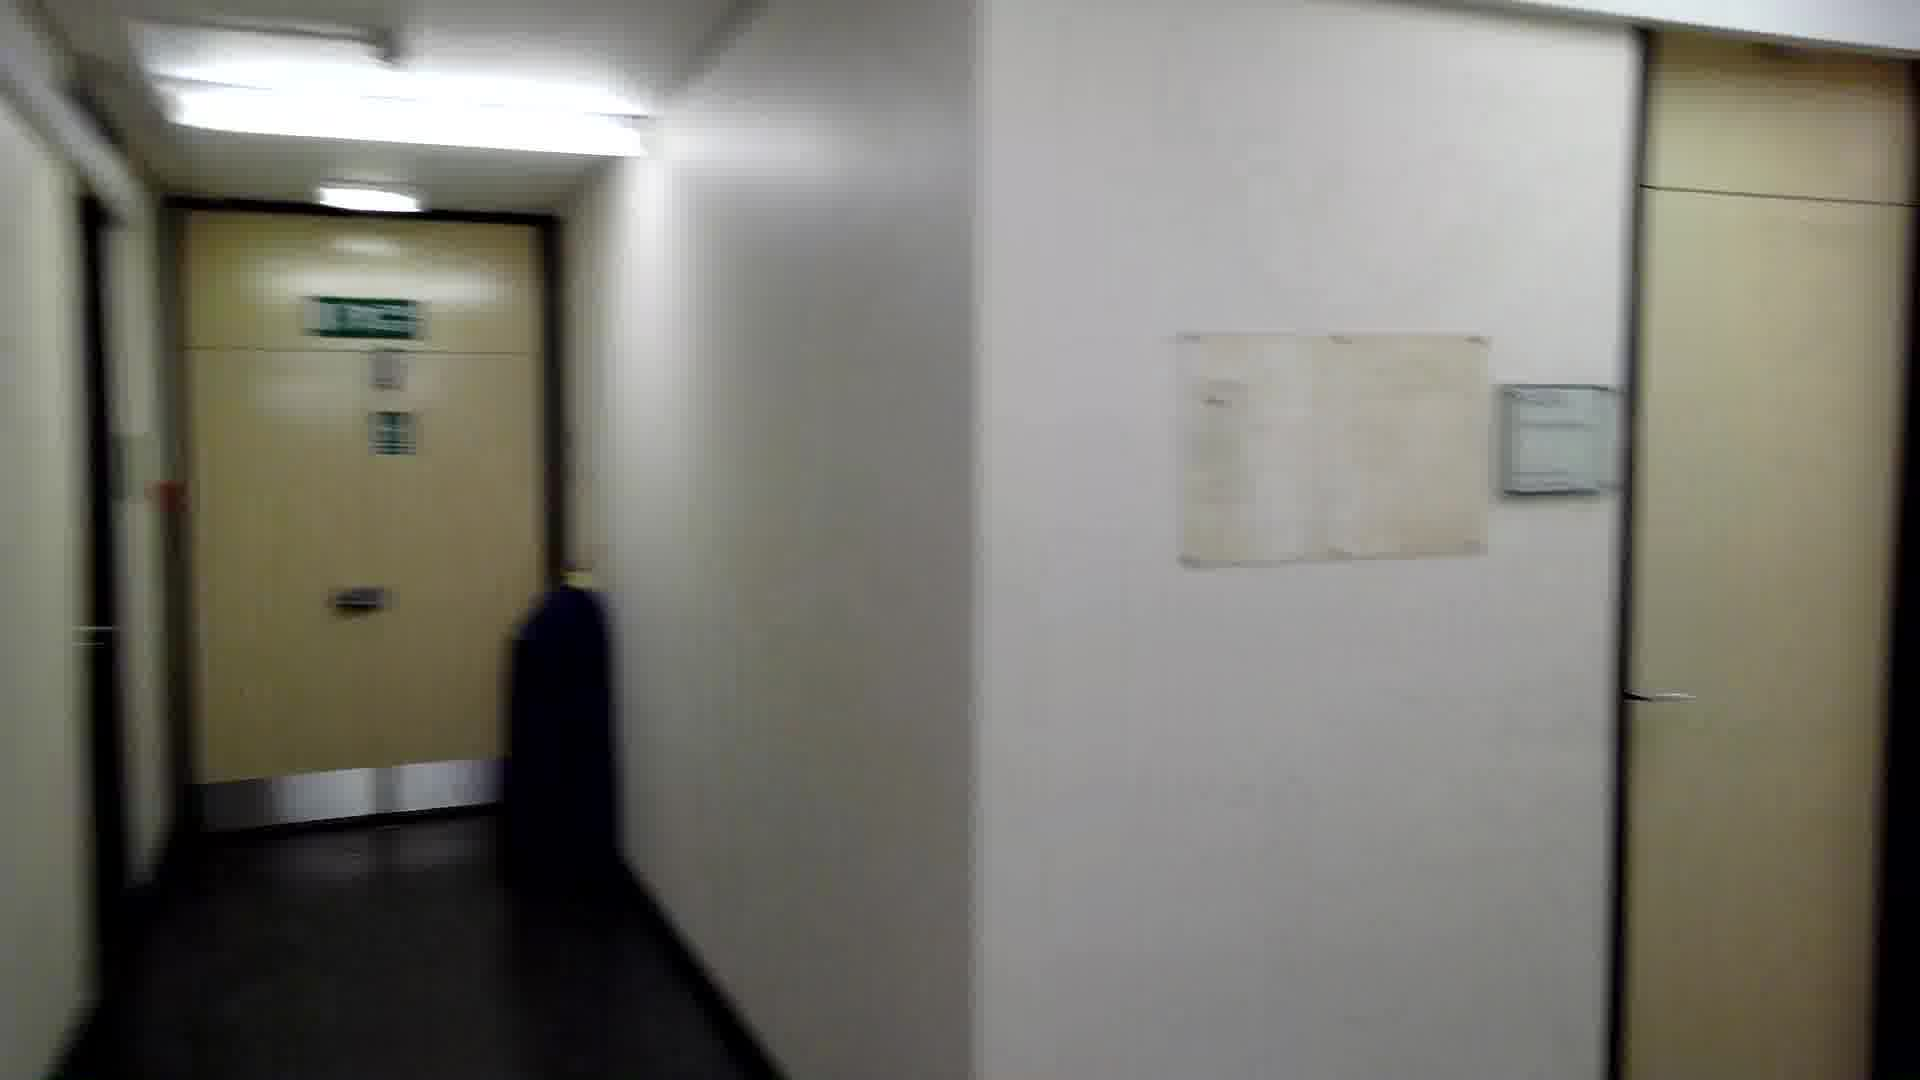Bin: (495, 574, 618, 973)
Door: (1605, 15, 1920, 1080)
